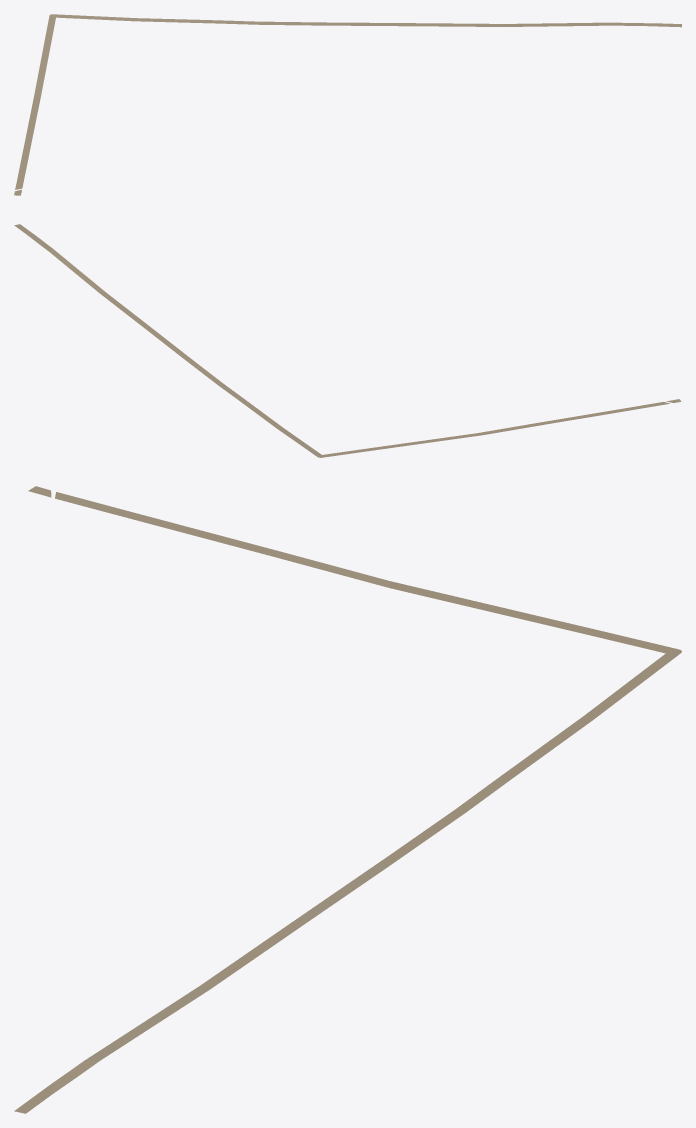
Rendered from farm_24_17_track.glb.
3 views of the same model, one above another, from view 1: azimuth 30°, elevation 25°; view 2: azimuth 150°, elevation 25°; view 3: azimuth 270°, elevation 25° (orthographic). The views are drawn at different scales.
Visible parts, largest first — view 1: geometry_0; view 2: geometry_0; view 3: geometry_0.
Part boxes in pixels (left/top/right/bottom): geometry_0: left=14, top=14, right=681, bottom=195; geometry_0: left=14, top=224, right=681, bottom=457; geometry_0: left=14, top=486, right=681, bottom=1113.
Bounding box in the file's own units: 364 × 7.46 × 158.
